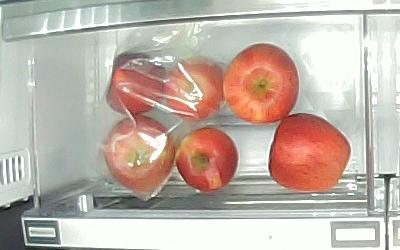apple: (268, 113, 351, 192), (223, 43, 298, 125), (176, 128, 238, 192)
apple_vinyl: (104, 116, 175, 193), (164, 58, 223, 120), (106, 53, 165, 114)
